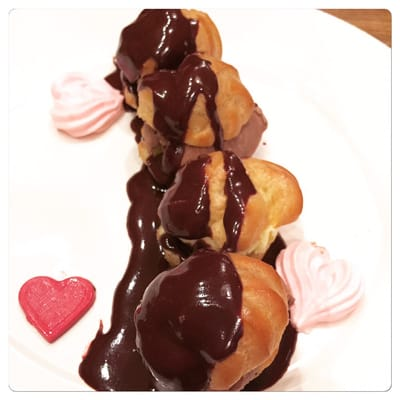burger: (156, 152, 304, 264)
salad: (134, 250, 295, 390)
